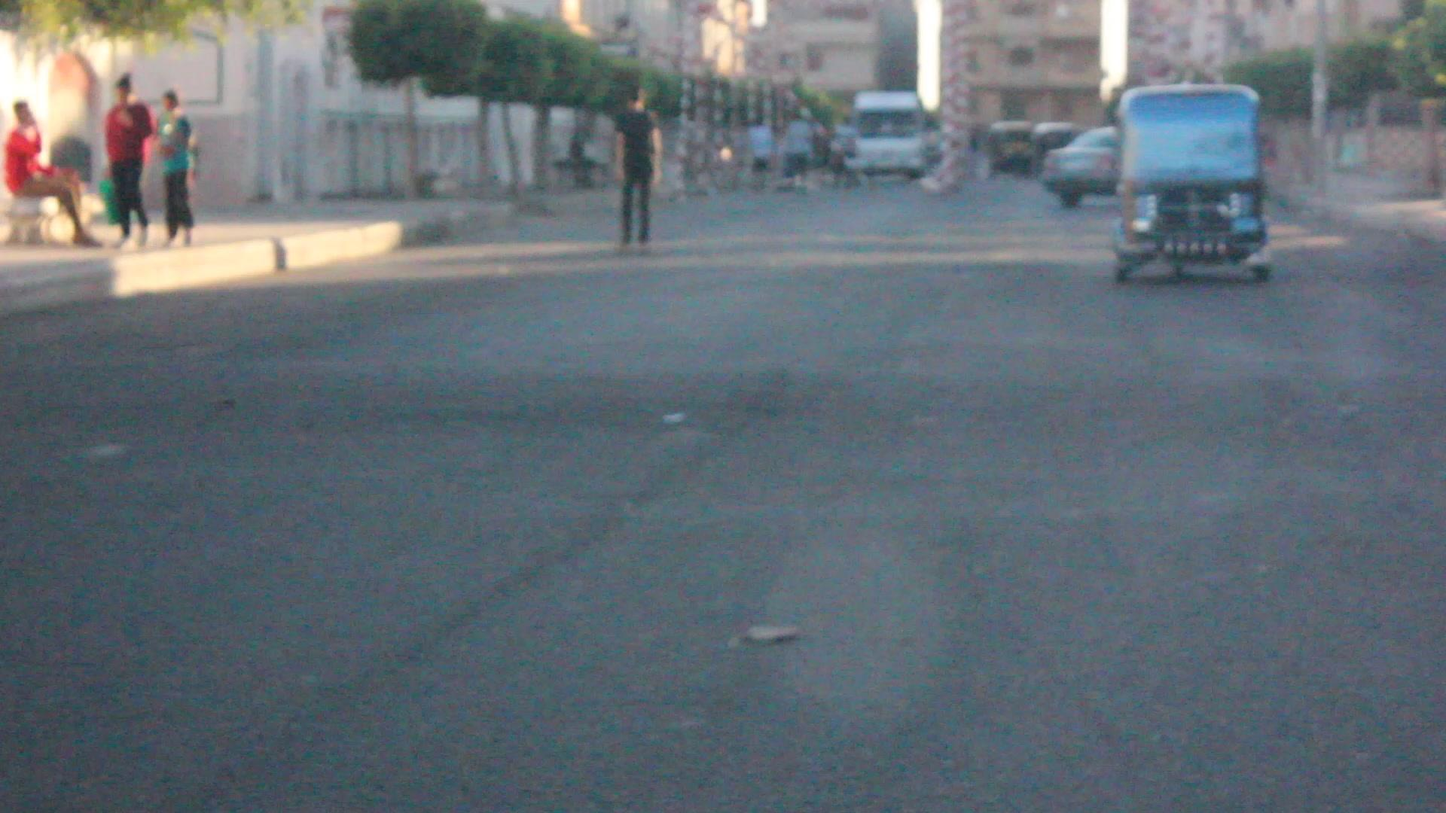Bump: (4, 352, 1446, 455)
